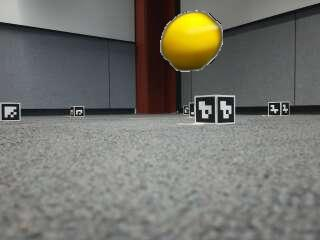lemon: (163, 12, 221, 70)
